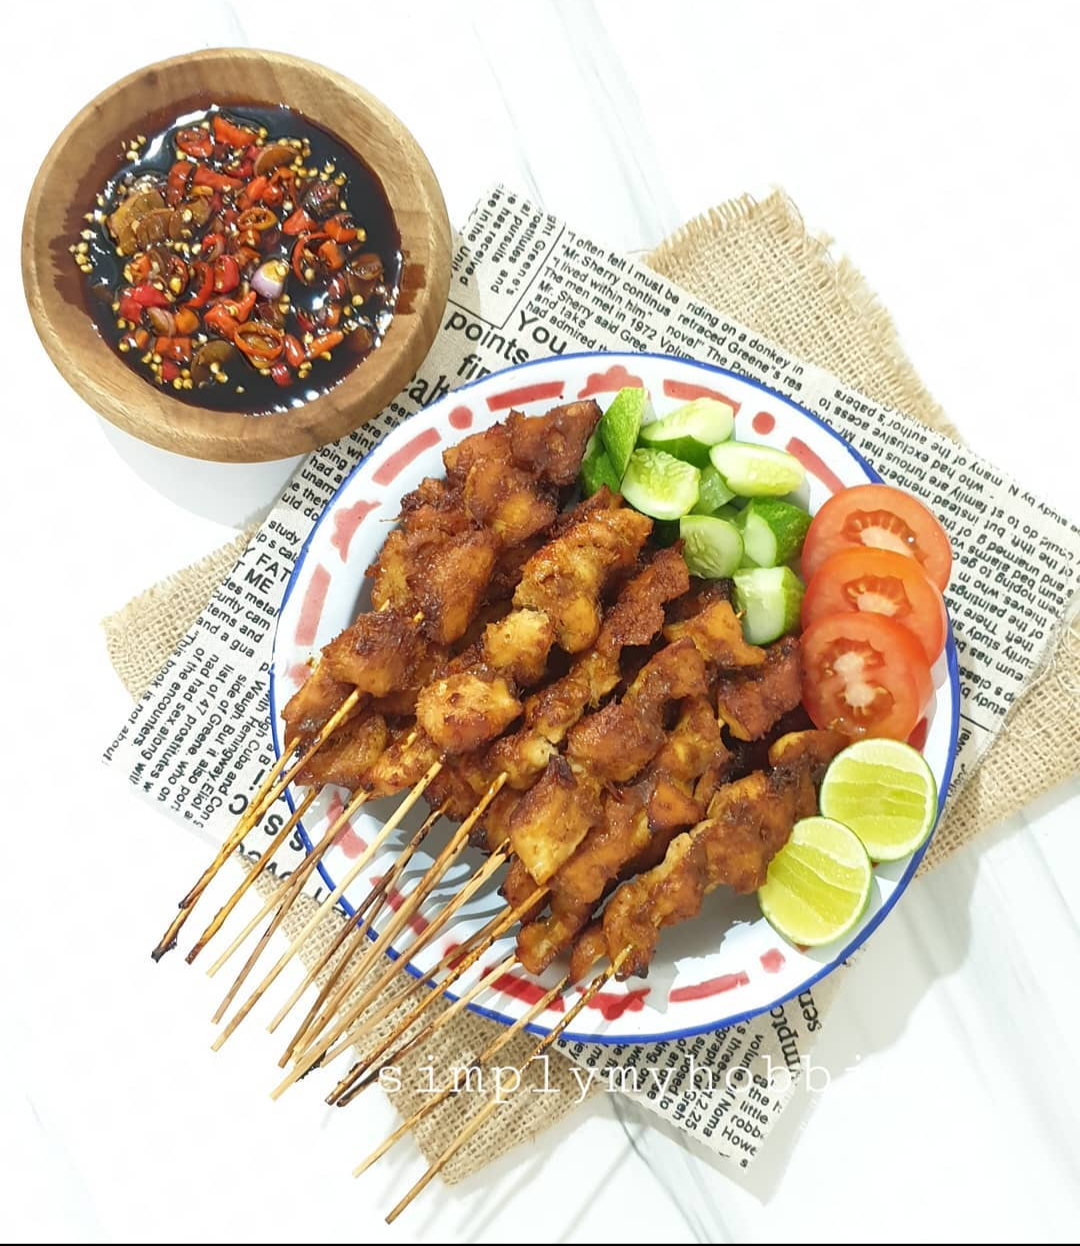sate: (129, 448, 851, 1223)
